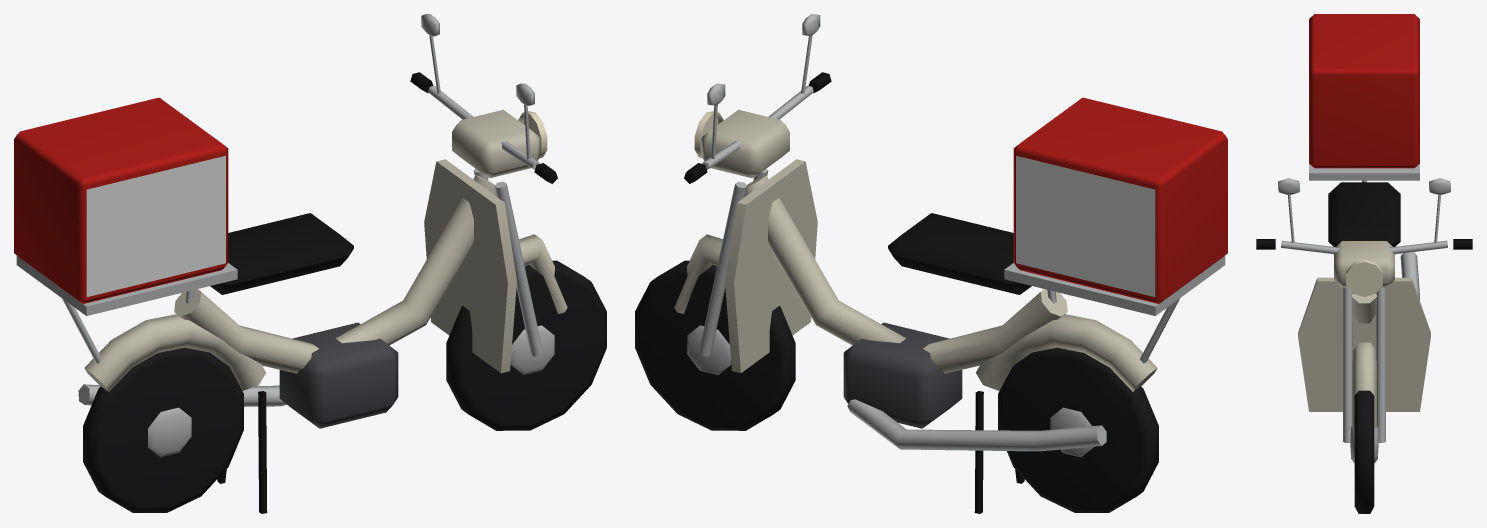
File: ScooterKM.fbx
3 renders of one model, left to right at view 1: azimuth 30°, elevation 25°; view 2: azimuth 150°, elevation 25°; view 3: azimuth 270°, elevation 25°, orthographic. The views are drawn at different scales.
Visible parts, largest first — view 1: ScooterKM; view 2: ScooterKM; view 3: ScooterKM.
Part boxes in pixels (x1,y1,x2,y2): ScooterKM: [14, 14, 606, 513]; ScooterKM: [635, 14, 1227, 513]; ScooterKM: [1256, 14, 1472, 513].
Bounding box in the file's own units: 1.84 × 1.24 × 0.78.
